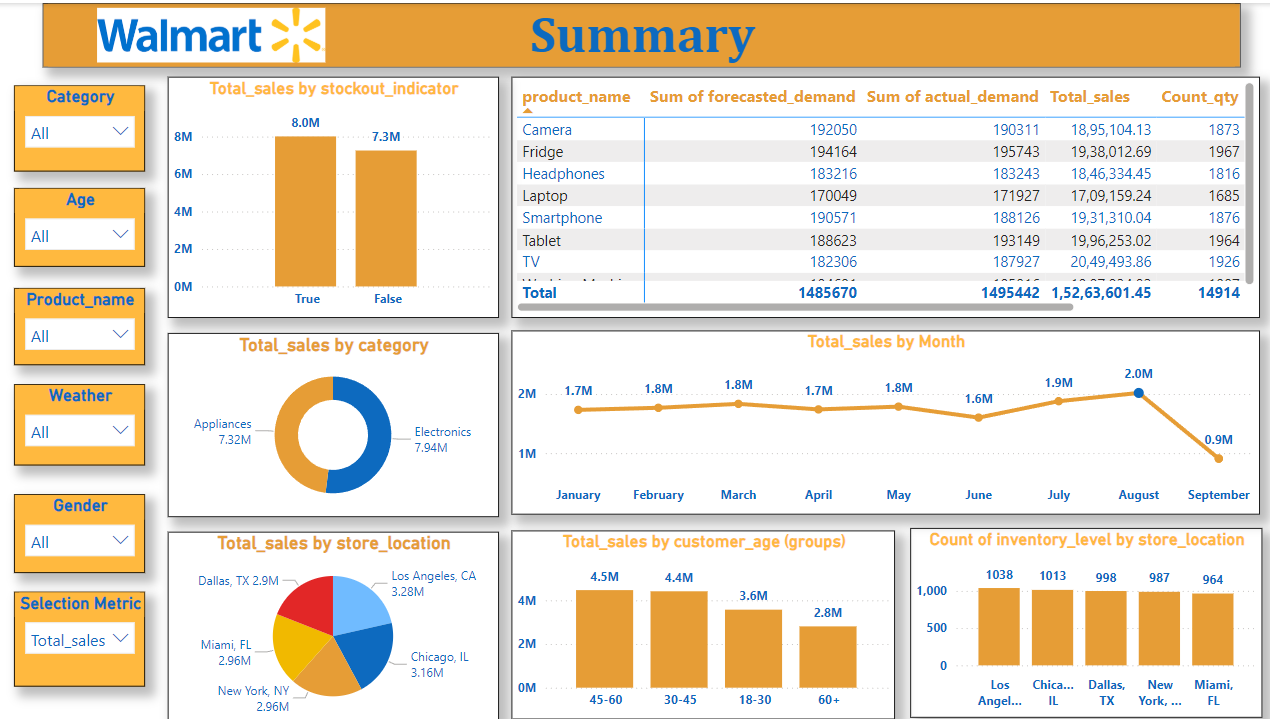

Layout of this report page (visuals, bound fields, positions):
{"tool":"powerbi","page":{"name":"Summary","canvas":[1280,720],"ordinal":2},"visuals":[{"type":"textbox","title":"Summary","box":[43.5,0,1192,63.9],"z":0},{"type":"slicer","title":"Category","fields":{"Values":["Walmart.category"]},"box":[14.9,82.1,130.6,85.8],"z":1000},{"type":"slicer","title":"Age","fields":{"Values":["Walmart.customer_age (groups)"]},"box":[14.9,184.1,130.6,78.4],"z":2000},{"type":"slicer","title":"Product_name","fields":{"Values":["Walmart.product_name"]},"box":[14.9,283.6,130.6,77.1],"z":3000},{"type":"slicer","title":"Weather","fields":{"Values":["Walmart.weather_conditions"]},"box":[14.9,379.4,130.6,80.9],"z":4000},{"type":"pivotTable","fields":{"Values":["Sum(Walmart.forecasted_demand)","Sum(Walmart.actual_demand)","Dim_date.Total_sales","Dim_date.Count_qty","Sum(Walmart.inventory_level)"],"Rows":["Walmart.product_name"]},"box":[510,73.4,745.1,240.1],"z":5000},{"type":"clusteredColumnChart","fields":{"Y":["CountNonNull(Walmart.inventory_level)"],"Category":["Walmart.store_location"]},"box":[906.8,522.5,350.8,189.1],"z":6000},{"type":"slicer","title":"Gender","fields":{"Values":["Walmart.customer_gender"]},"box":[14.9,488.9,130.6,78.4],"z":7000},{"type":"image","box":[44.8,0,332.5,63.9],"z":8000},{"type":"slicer","title":"Selection Metric","fields":{"Values":["Metric.Parameter"]},"box":[14.9,585.9,130.6,94.5],"z":9000},{"type":"clusteredColumnChart","fields":{"Y":["Dim_date.Total_sales"],"Category":["Walmart.stockout_indicator"]},"box":[167.9,73.4,329.6,240.1],"z":10000},{"type":"donutChart","fields":{"Y":["Dim_date.Total_sales"],"Category":["Walmart.category"]},"box":[167.9,328.4,329.6,182.9],"z":11000},{"type":"lineChart","fields":{"Y":["Dim_date.Total_sales"],"Category":["Dim_date.Date.Variation.Date Hierarchy.Month"]},"box":[510,325.9,745.1,182.9],"z":12000},{"type":"pieChart","fields":{"Y":["Dim_date.Total_sales"],"Category":["Walmart.store_location"]},"box":[167.9,526.2,329.6,187.8],"z":13000},{"type":"clusteredColumnChart","fields":{"Y":["Dim_date.Total_sales"],"Category":["Walmart.customer_age (groups)"]},"box":[510,525,381.9,187.8],"z":14000}]}

Visuals, with their boxes in screenshot pixels (x1, y1, x2, y2), scaled from the page's 1280x720 canvas onto the 1270x719 screenshot:
"Summary" textbox: (left=43, top=0, right=1226, bottom=64)
"Category" slicer: (left=15, top=82, right=144, bottom=168)
"Age" slicer: (left=15, top=184, right=144, bottom=262)
"Product_name" slicer: (left=15, top=283, right=144, bottom=360)
"Weather" slicer: (left=15, top=379, right=144, bottom=460)
pivotTable - Sum(Walmart.forecasted_demand) x Sum(Walmart.actual_demand): (left=506, top=73, right=1245, bottom=313)
clusteredColumnChart - CountNonNull(Walmart.inventory_level) x Walmart.store_location: (left=900, top=522, right=1248, bottom=711)
"Gender" slicer: (left=15, top=488, right=144, bottom=567)
image: (left=44, top=0, right=374, bottom=64)
"Selection Metric" slicer: (left=15, top=585, right=144, bottom=679)
clusteredColumnChart - Dim_date.Total_sales x Walmart.stockout_indicator: (left=167, top=73, right=494, bottom=313)
donutChart - Dim_date.Total_sales x Walmart.category: (left=167, top=328, right=494, bottom=511)
lineChart - Dim_date.Total_sales x Dim_date.Date.Variation.Date Hierarchy.Month: (left=506, top=325, right=1245, bottom=508)
pieChart - Dim_date.Total_sales x Walmart.store_location: (left=167, top=525, right=494, bottom=713)
clusteredColumnChart - Dim_date.Total_sales x Walmart.customer_age (groups): (left=506, top=524, right=885, bottom=712)
